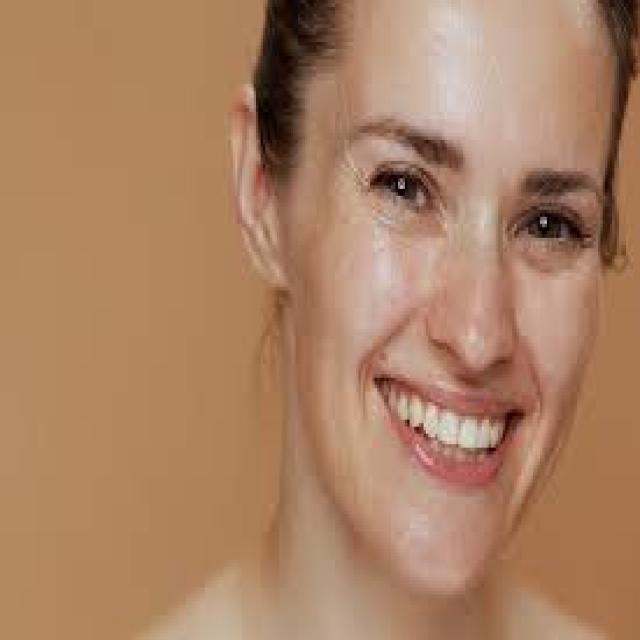happy: (278, 0, 610, 586)
